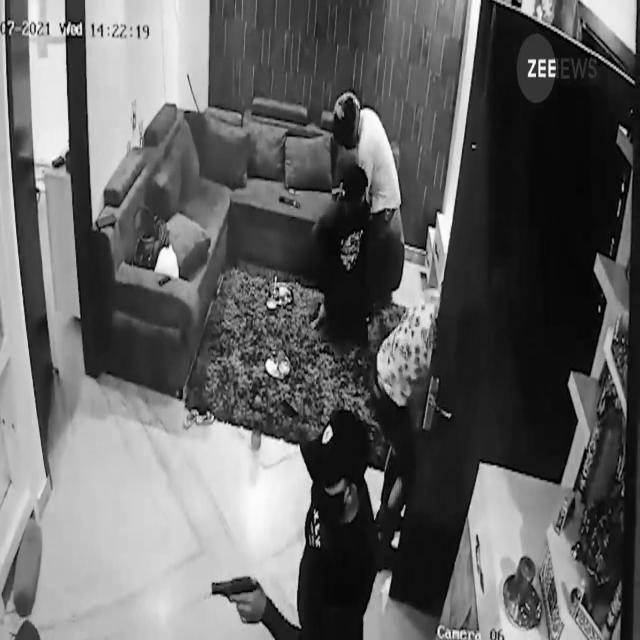Gun: (208, 573, 260, 619)
